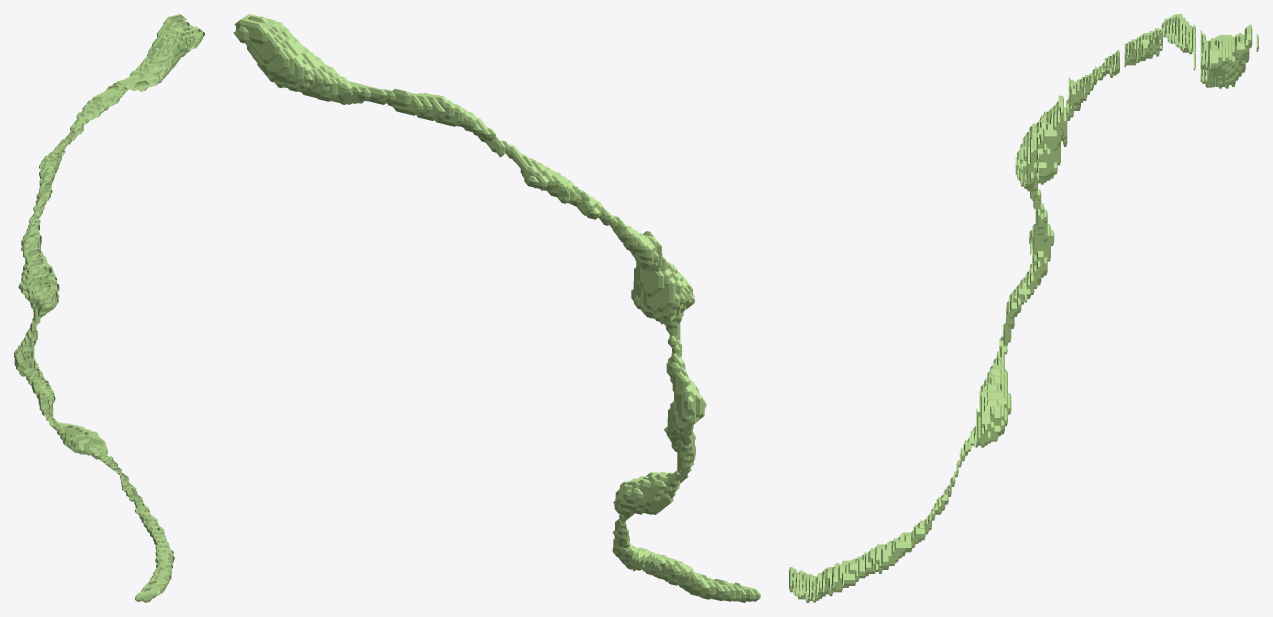
File: SVV_AWBL.gltf
3 renders of one model, left to right at view 1: azimuth 30°, elevation 25°; view 2: azimuth 150°, elevation 25°; view 3: azimuth 270°, elevation 25°, orthographic. The views are drawn at different scales.
Parts seen in each view (by area): view 1: AWBL; view 2: AWBL; view 3: AWBL.
Boxes of the visible parts, x1,y1,x2,y2 form: AWBL: [14, 14, 204, 602]; AWBL: [233, 14, 760, 602]; AWBL: [789, 14, 1258, 602].
Bounding box in the file's own units: 51730 × 89133 × 54690.
